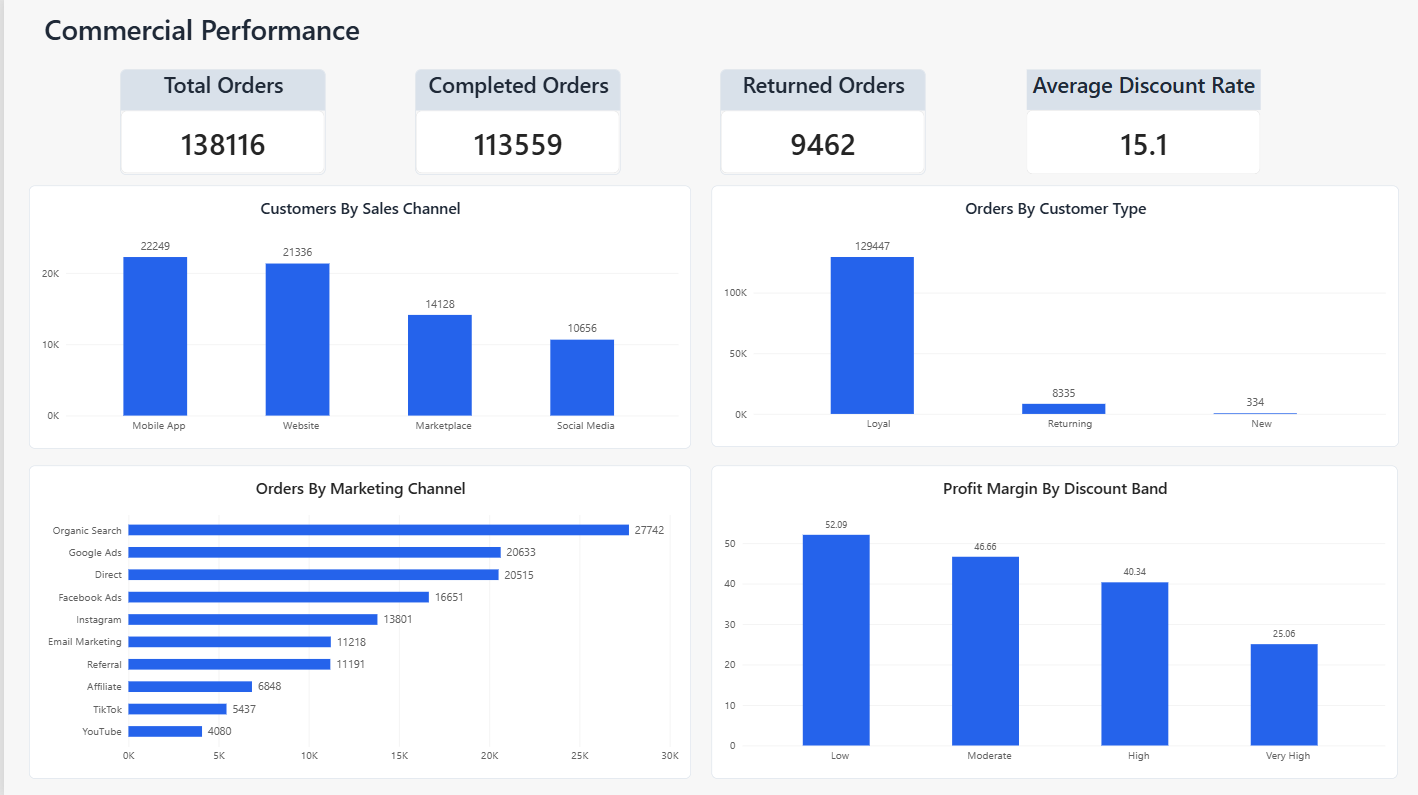

What the dashboard file says about the page in this screenshot:
{"tool":"powerbi","page":{"name":"Commercial_Performance","canvas":[1920,1080],"ordinal":2},"visuals":[{"type":"cardVisual","title":"Total Orders","fields":{"Data":["Count(ecommerce_customer_value_intelligence sales.order_id)"]},"box":[157.1,96.4,278.6,142.9],"z":0},{"type":"textbox","box":[34.7,16.3,468.9,64.4],"z":1000},{"type":"cardVisual","title":"Returned Orders","fields":{"Data":["Count(ecommerce_customer_value_intelligence sales.order_id)"]},"box":[971.4,96.4,278.6,142.9],"z":2000},{"type":"cardVisual","title":"Completed Orders","fields":{"Data":["Count(ecommerce_customer_value_intelligence sales.order_id)"]},"box":[557.1,96.4,278.6,142.9],"z":3000},{"type":"cardVisual","title":"Average Discount Rate","fields":{"Data":["ecommerce_customer_value_intelligence sales.Average Discount Rate"]},"box":[1385.7,96.4,317.9,142.9],"z":4000},{"type":"clusteredColumnChart","title":"Customers By Sales Channel","fields":{"Category":["ecommerce_customer_value_intelligence sales.sales_channel"],"Y":["Count(ecommerce_customer_value_intelligence sales.customer_id)"]},"box":[34.1,254.5,897.7,356.8],"z":6000},{"type":"clusteredColumnChart","title":"Orders By Customer Type","fields":{"Category":["ecommerce_customer_value_intelligence sales.customer_type"],"Y":["Count(ecommerce_customer_value_intelligence sales.order_id)"]},"box":[959.1,254.5,931.8,354.5],"z":7000},{"type":"clusteredBarChart","title":"Orders By Marketing Channel","fields":{"Category":["ecommerce_customer_value_intelligence sales.marketing_channel"],"Y":["Count(ecommerce_customer_value_intelligence sales.order_id)"]},"box":[34.7,634.7,898,424.5],"z":8000},{"type":"clusteredColumnChart","title":"Profit Margin By Discount Band","fields":{"Category":["ecommerce_customer_value_intelligence sales.Discount Band"],"Y":["Avg(ecommerce_customer_value_intelligence sales.profit_margin_percentage)"]},"box":[959.2,634.7,930.6,424.5],"z":9000}]}

Visuals, with their boxes in screenshot pixels (x1, y1, x2, y2), scaled from the page's 1920x1080 canvas onto the 1418x795 screenshot:
"Total Orders" cardVisual: (116,71,322,176)
textbox: (26,12,372,59)
"Returned Orders" cardVisual: (717,71,923,176)
"Completed Orders" cardVisual: (411,71,617,176)
"Average Discount Rate" cardVisual: (1023,71,1258,176)
"Customers By Sales Channel" clusteredColumnChart: (25,187,688,450)
"Orders By Customer Type" clusteredColumnChart: (708,187,1397,448)
"Orders By Marketing Channel" clusteredBarChart: (26,467,689,780)
"Profit Margin By Discount Band" clusteredColumnChart: (708,467,1396,780)
